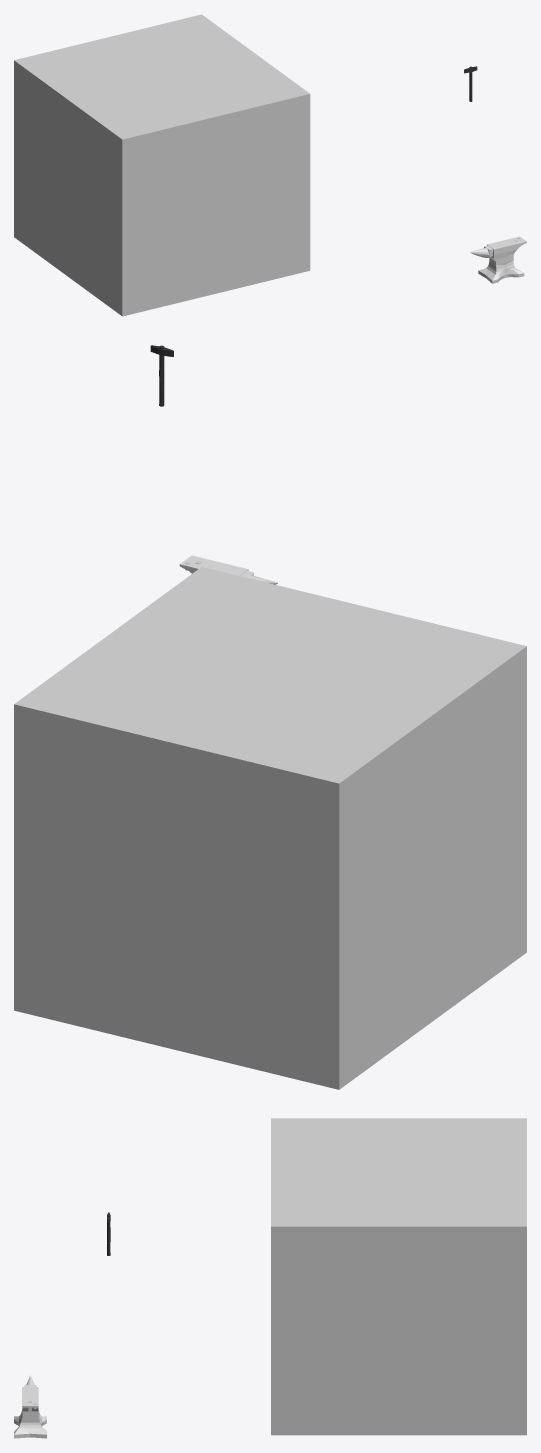
Rendered from coldsett.dae.
The picture shows the model from 3 angles, top to bottom: view 1: azimuth 30°, elevation 25°; view 2: azimuth 150°, elevation 25°; view 3: azimuth 270°, elevation 25°; orthographic projection. The views are drawn at different scales.
Visible parts, largest first — view 1: Cube_004, Cube_002; view 2: Cube_004, Cube_002; view 3: Cube_004, Cube_002.
Part boxes in pixels (box(x1,y1,x2,y2)): Cube_004: box(14, 14, 310, 316); Cube_002: box(470, 236, 526, 283); Cube_004: box(14, 567, 526, 1089); Cube_002: box(179, 555, 277, 584); Cube_004: box(271, 1118, 526, 1435); Cube_002: box(14, 1375, 46, 1438).
Bounding box in the file's own units: 3.18 × 4.01 × 2.35.
2 materials, 2 textured.
